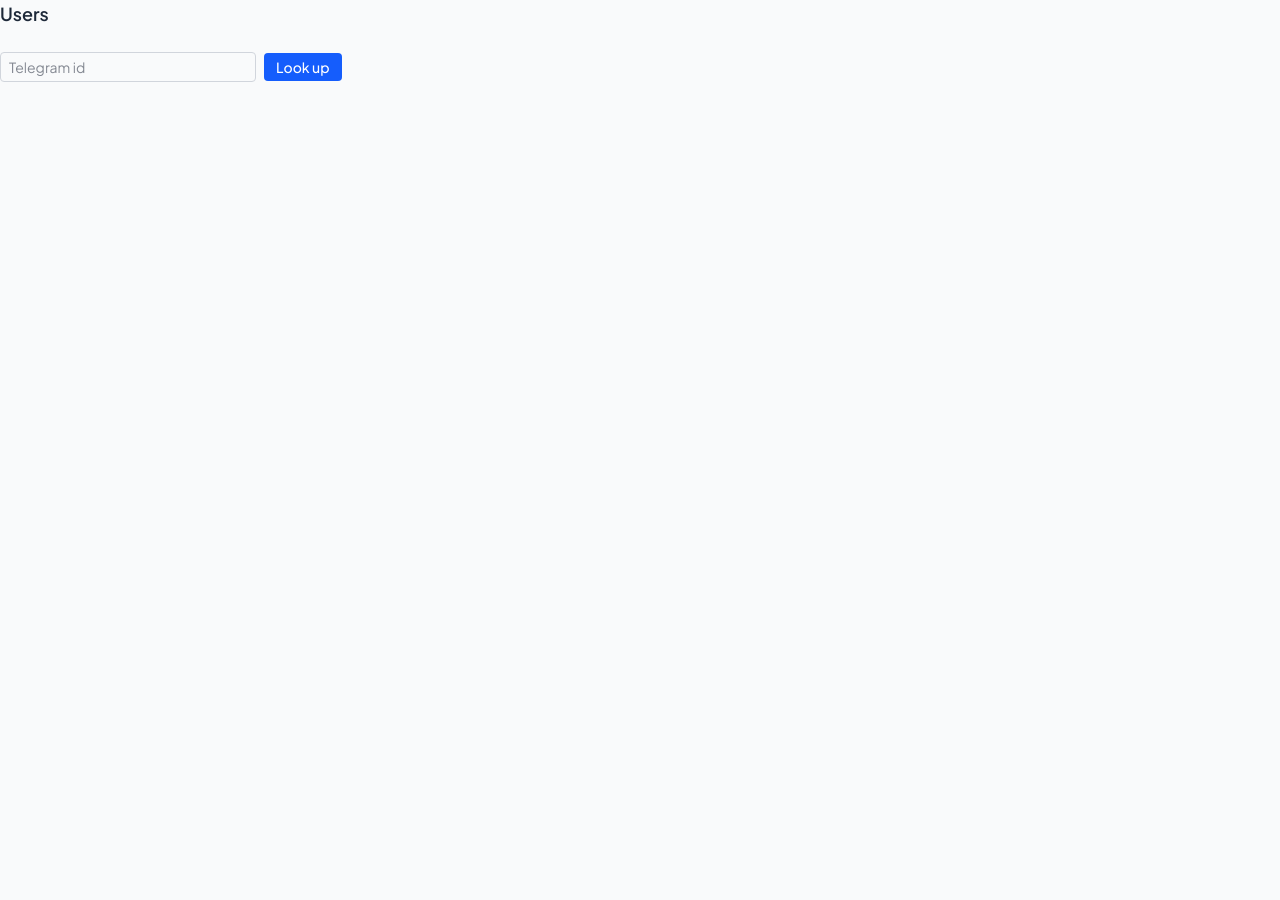
OpsUsers lookup + footprint › unban calls the unban verb
Type "1010" into the field with placeholder "Telegram id" at (128, 67), box left=0, top=52, right=256, bottom=82
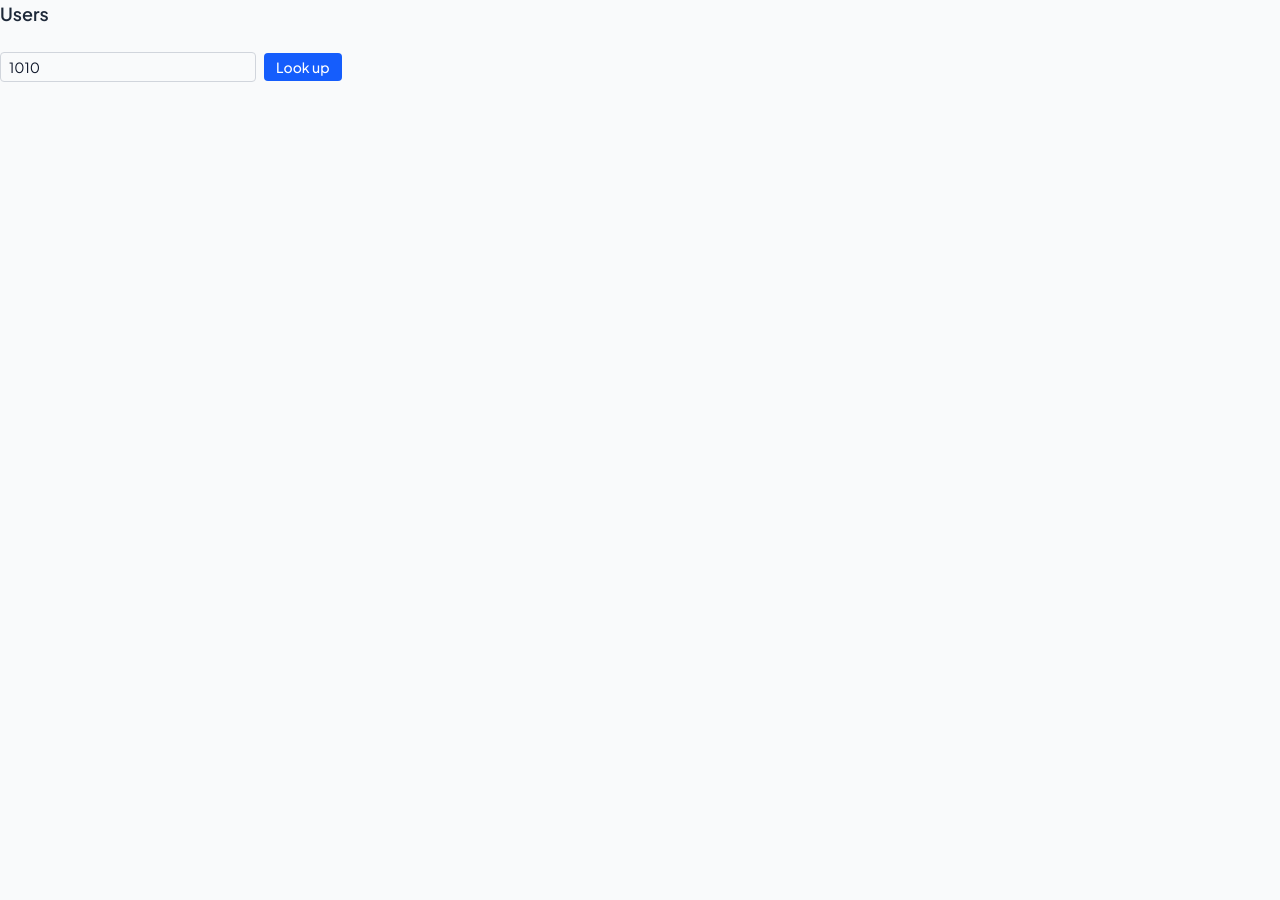
Click the button "Look up" at (303, 67), box left=264, top=53, right=342, bottom=81
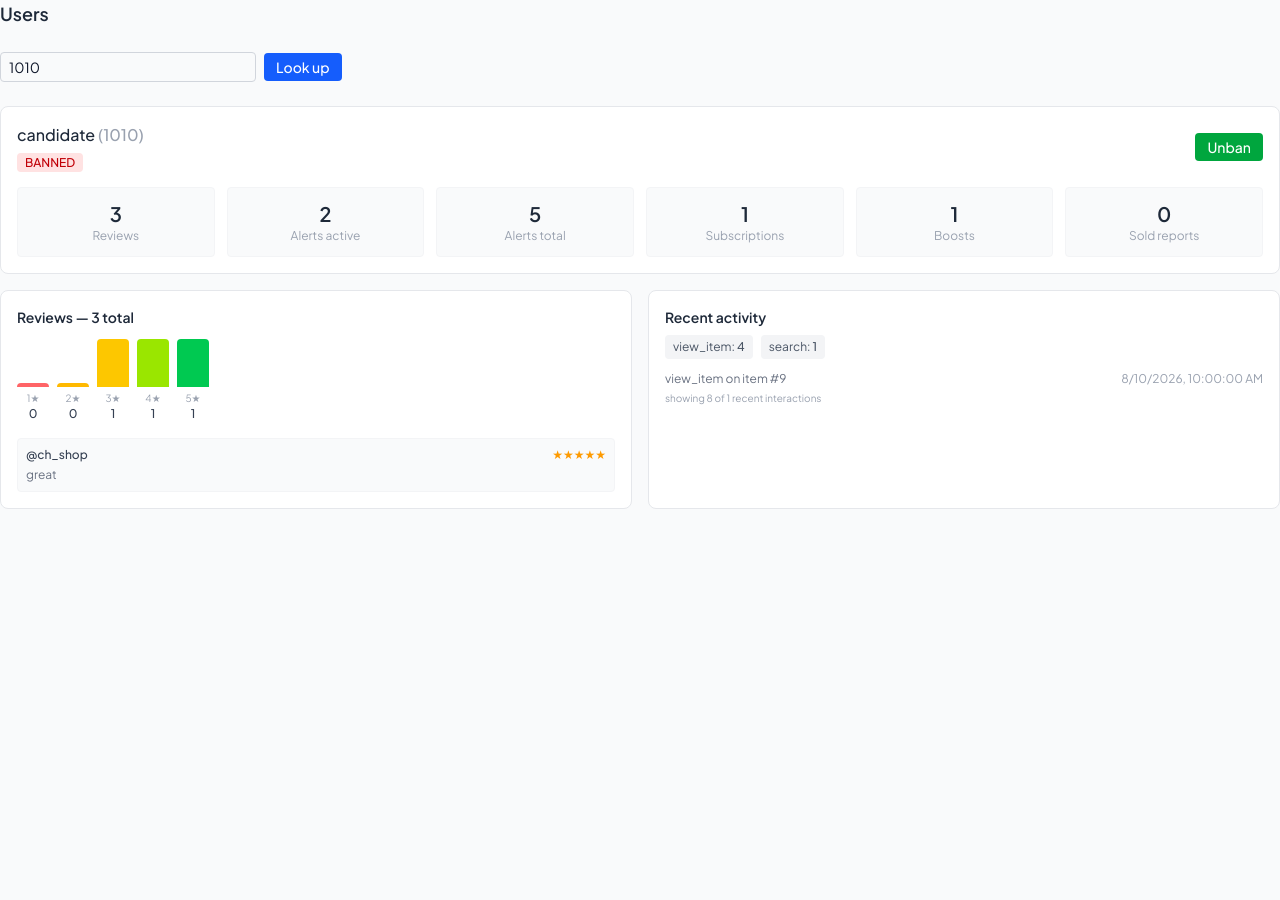
Click the button "Unban" at (1229, 147), box left=1196, top=133, right=1263, bottom=161
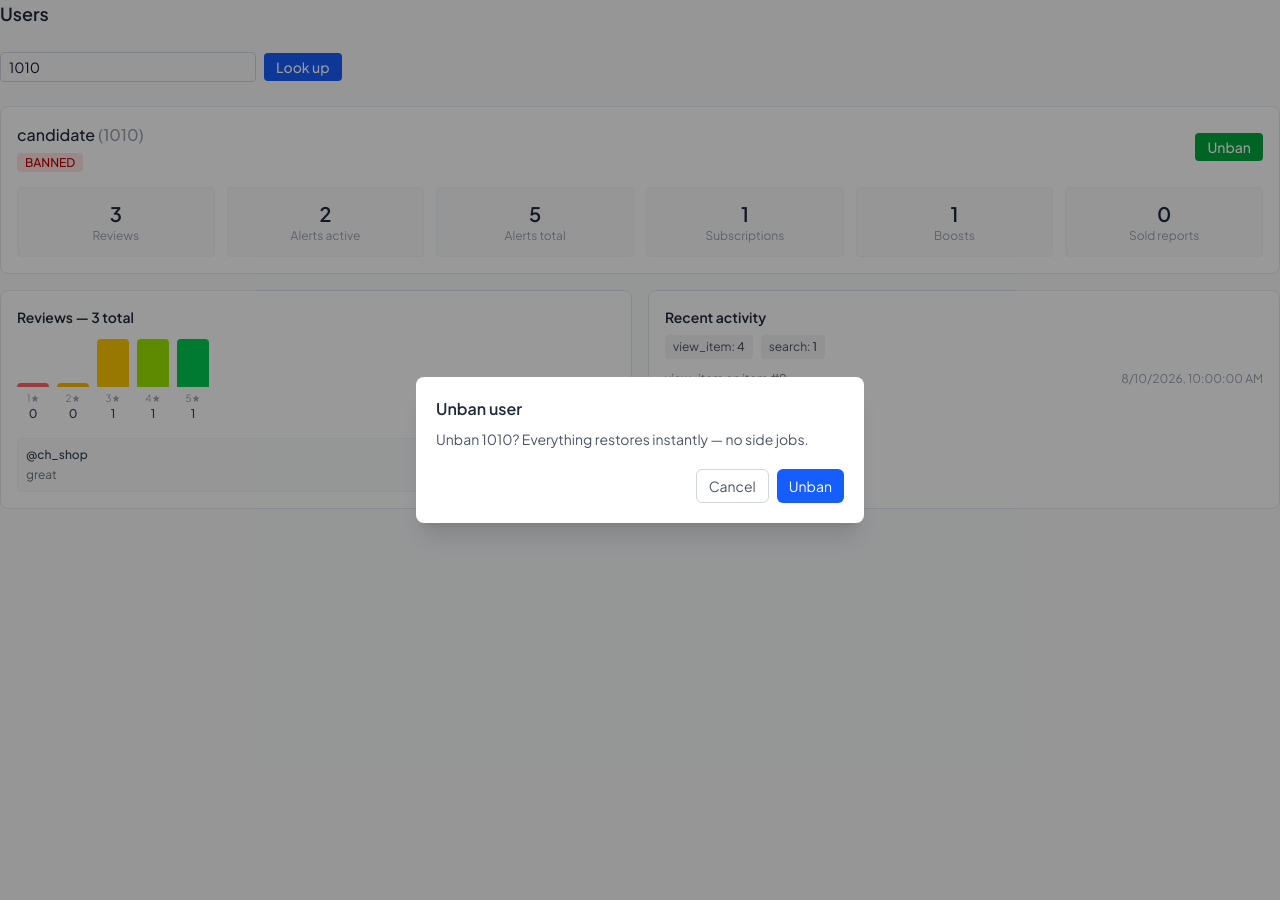
Click the button "Unban" at (810, 486), box left=777, top=469, right=844, bottom=503
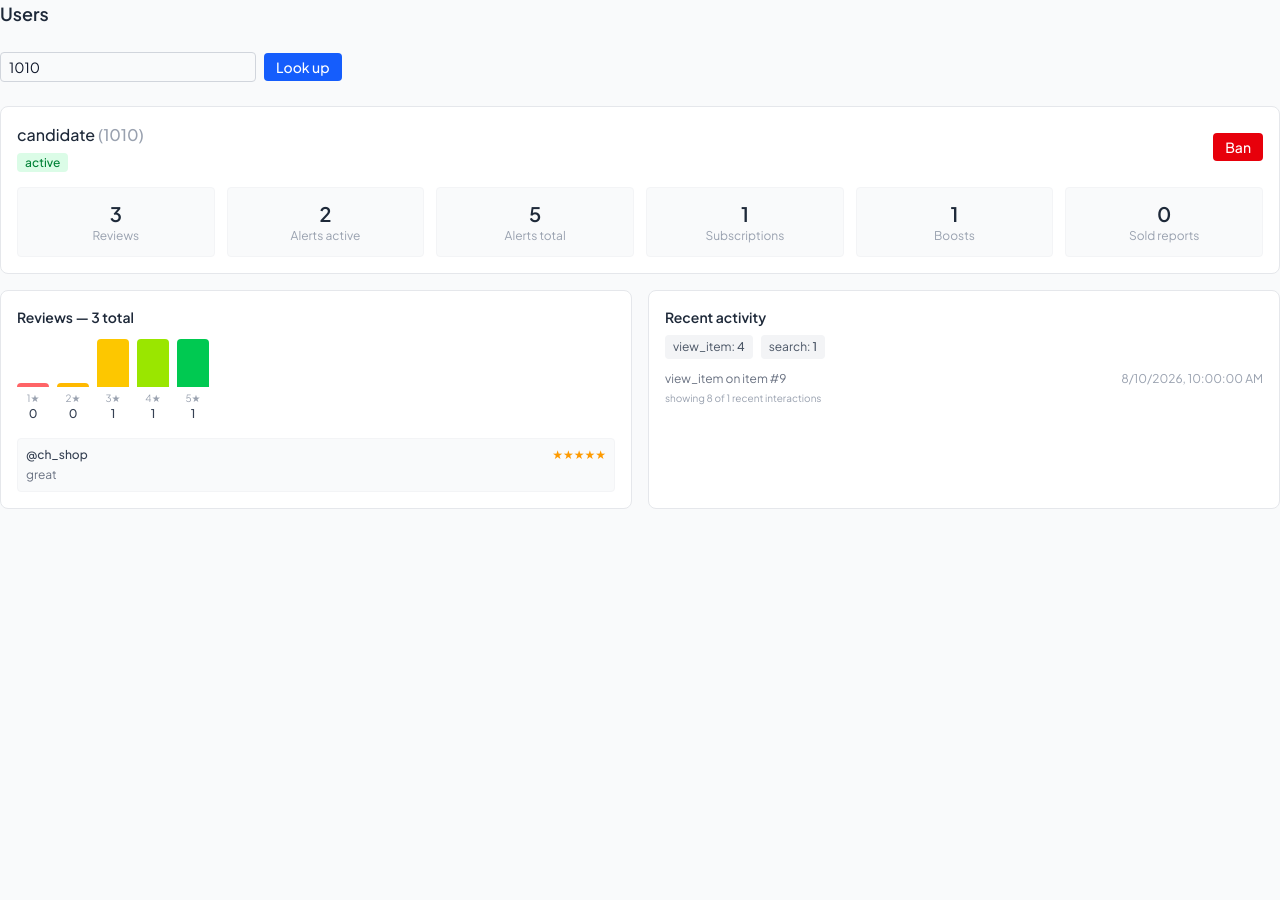
Now the text "active" is shown, box left=17, top=153, right=68, bottom=172
